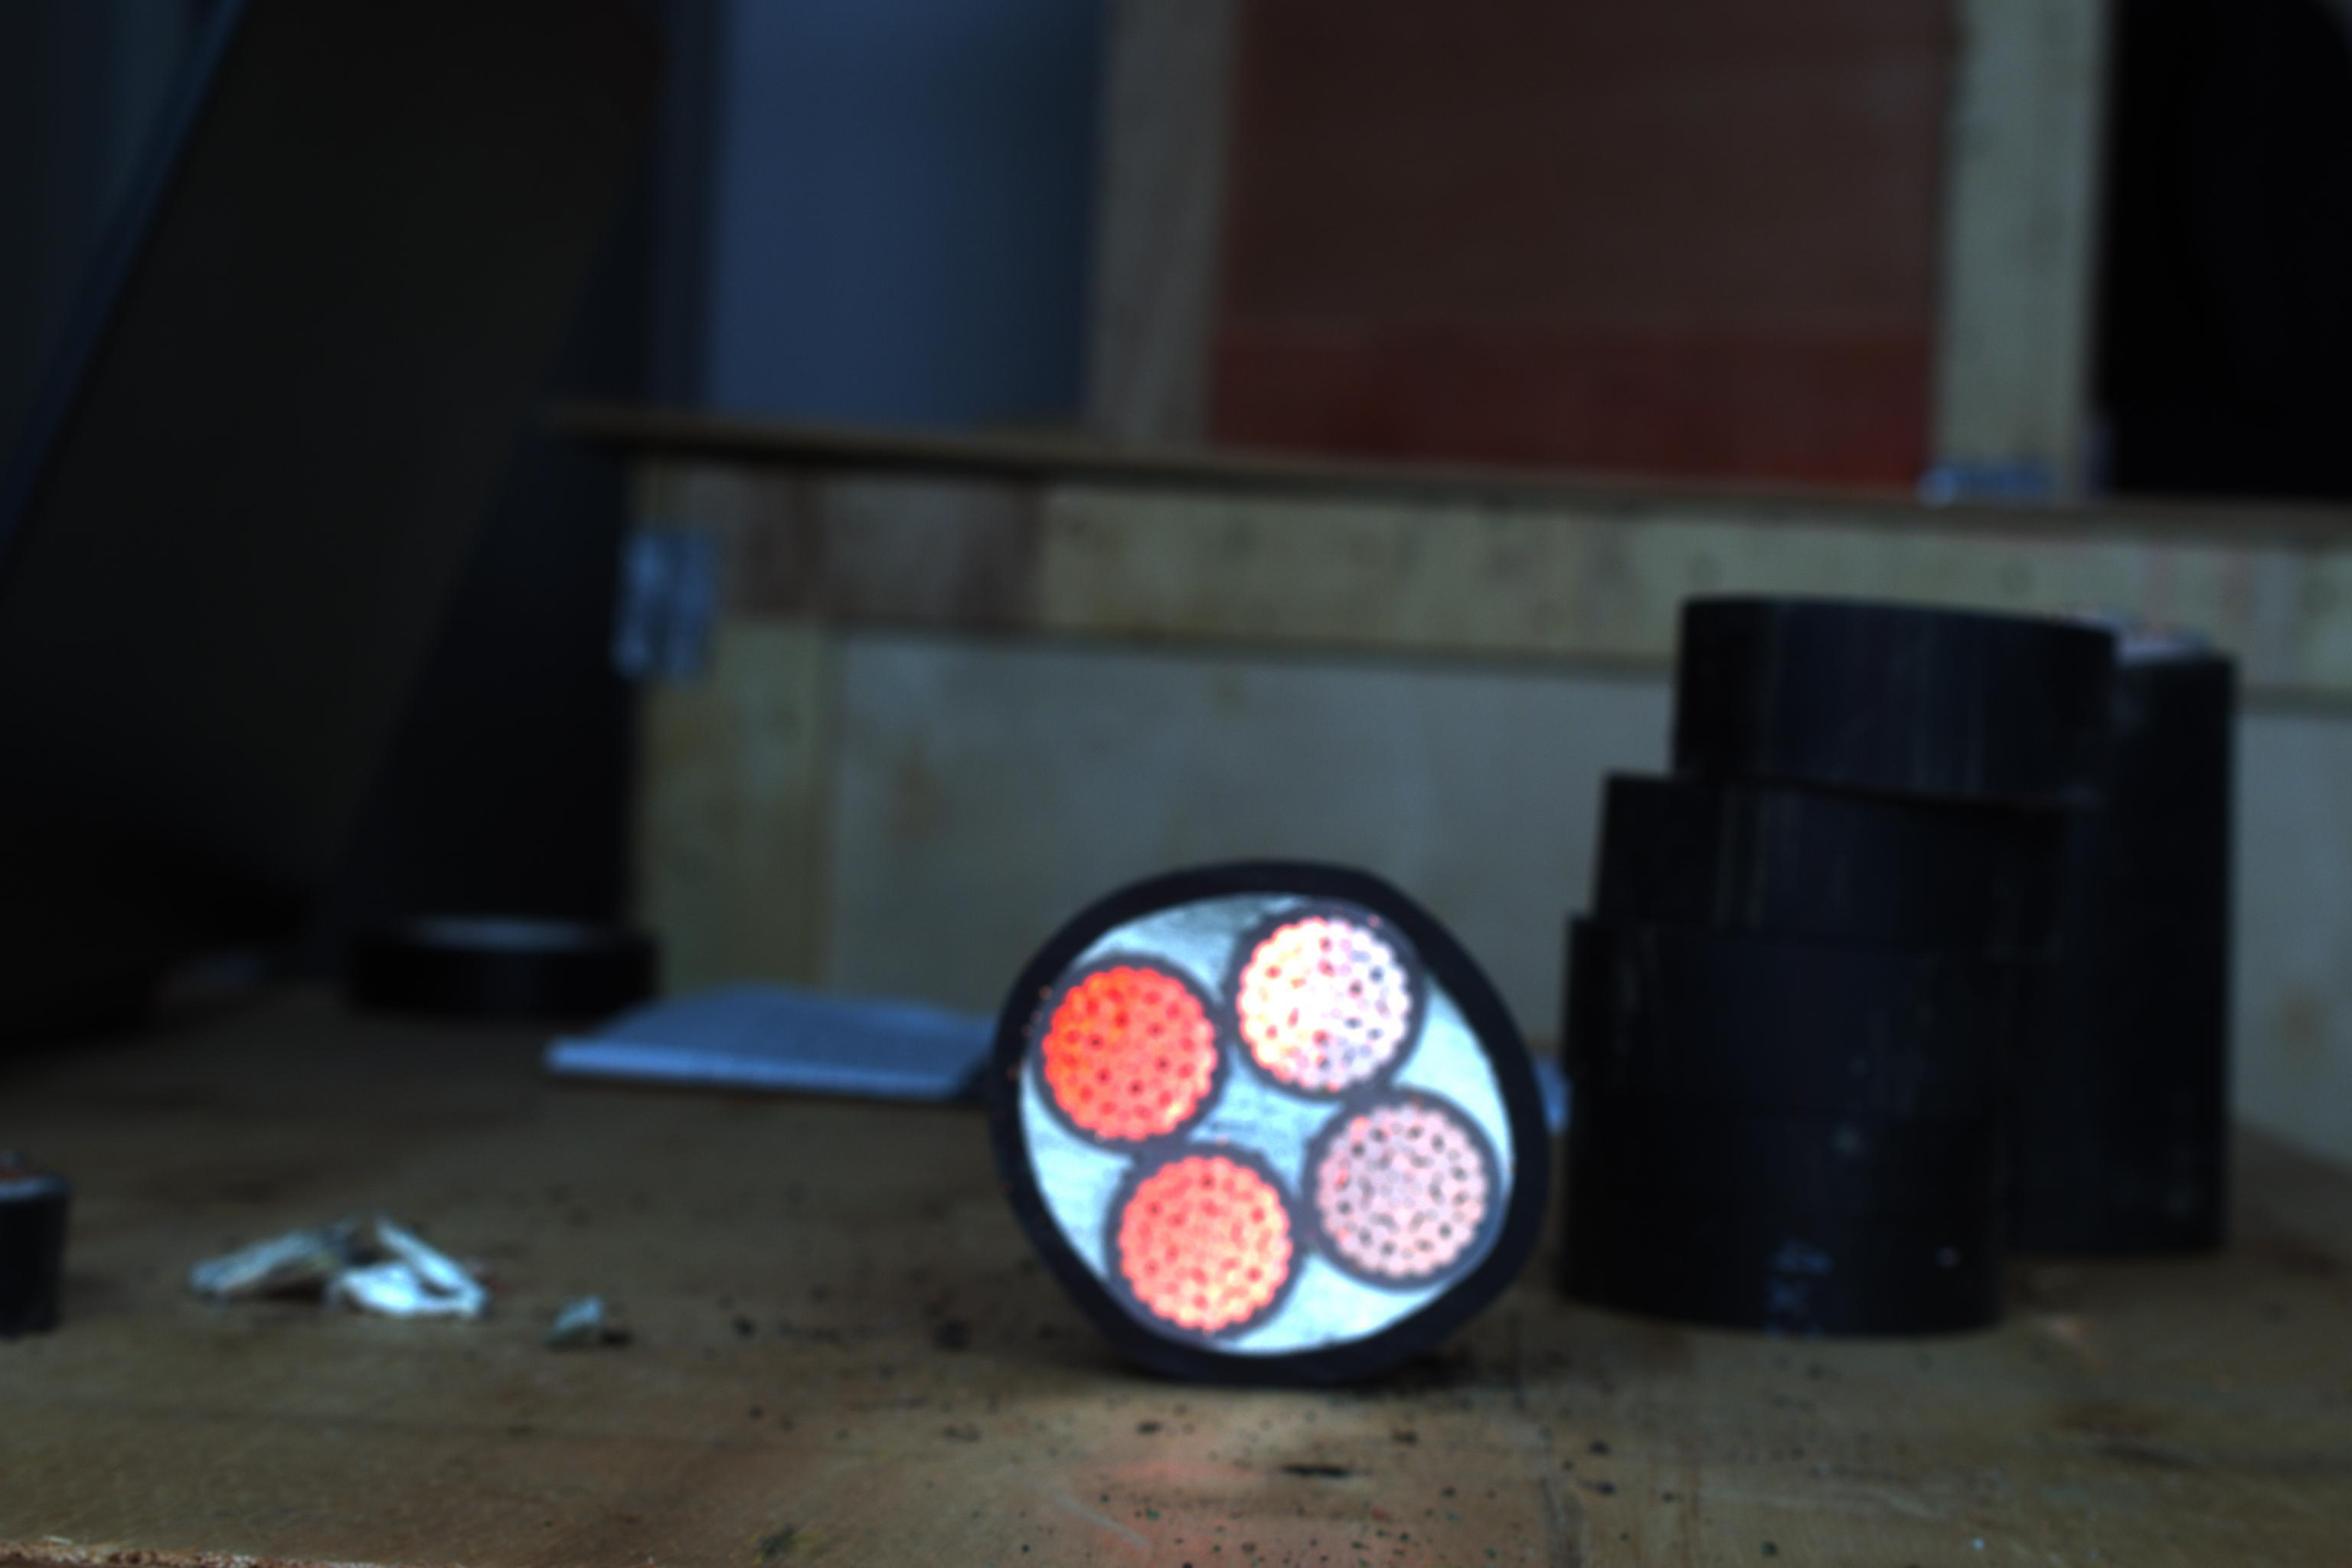YJV_0.6_1kV_4x240: (1015, 875, 1557, 1372)
